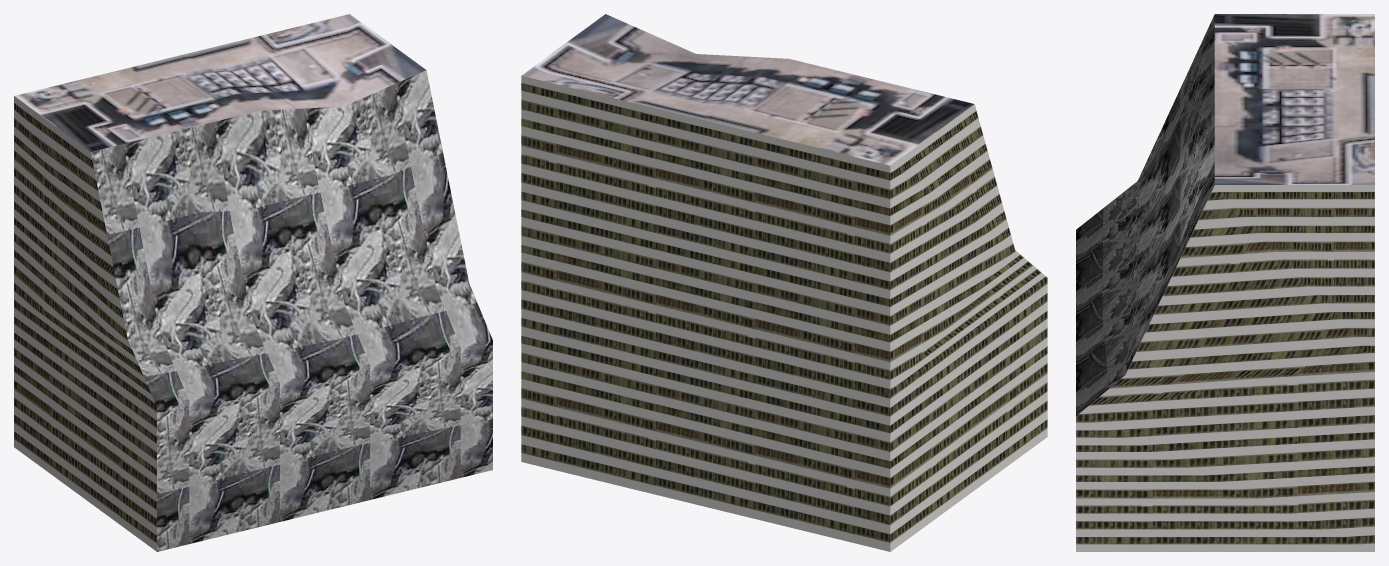
Rendered from broken_bill2.fbx.
3 renders of one model, left to right at view 1: azimuth 30°, elevation 25°; view 2: azimuth 150°, elevation 25°; view 3: azimuth 270°, elevation 25°, orthographic. The views are drawn at different scales.
Parts seen in each view (by area): view 1: brokenbill2; view 2: brokenbill2; view 3: brokenbill2.
Part boxes in pixels (box(x1,y1,x2,y2)): brokenbill2: box(14, 14, 492, 551); brokenbill2: box(521, 14, 1047, 551); brokenbill2: box(1076, 14, 1374, 551).
Size of the model in its own units: 200 by 200 by 148.
